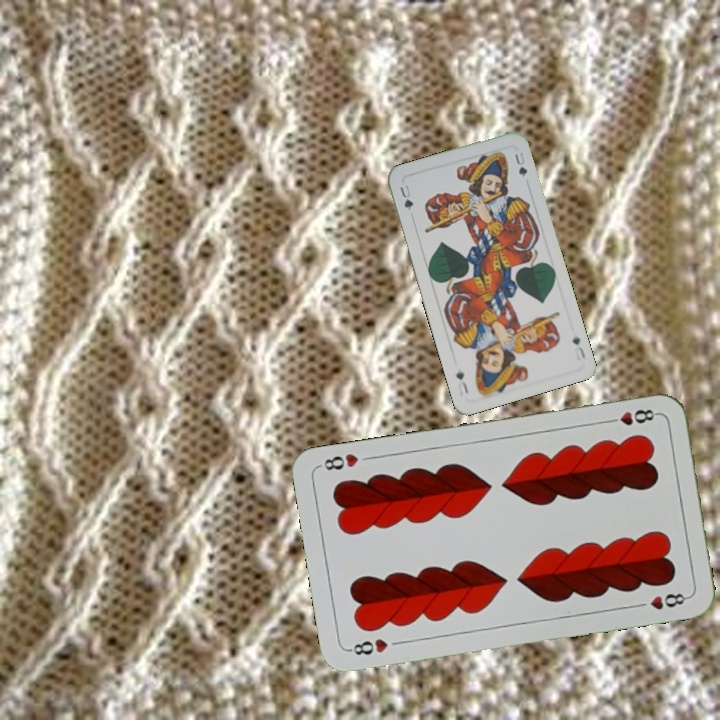GU: (396, 181, 416, 213), (568, 333, 588, 361)
H8: (602, 405, 661, 428), (345, 634, 391, 658)
